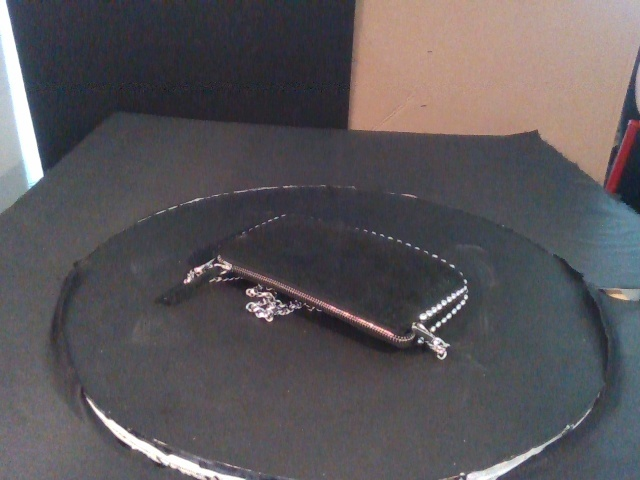bag: (212, 212, 469, 351)
